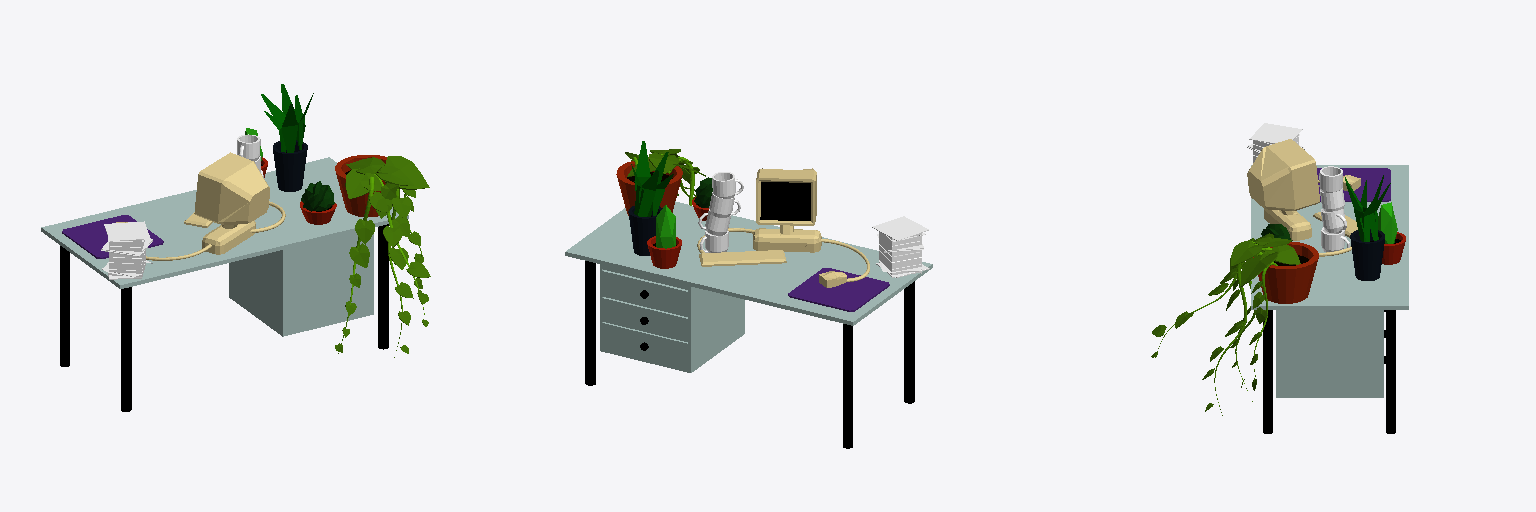
File: Desk_VariantTwo_RA.obj
The picture shows the model from 3 angles: view 1: azimuth 30°, elevation 25°; view 2: azimuth 150°, elevation 25°; view 3: azimuth 270°, elevation 25°; orthographic projection.
Visible parts, largest first — view 1: curve5; view 2: curve5; view 3: curve5.
Part boxes in pixels (x1,y1,x2,y2): curve5: (41, 84, 430, 411); curve5: (565, 141, 932, 448); curve5: (1151, 123, 1408, 433).
Size of the model in its own units: 14.31 by 10.3 by 10.29.